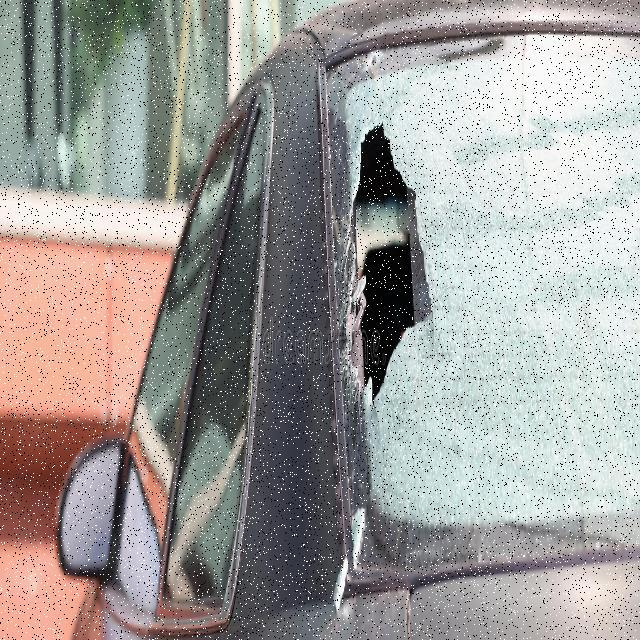Rear-windscreen-Damage: (291, 23, 640, 639)
